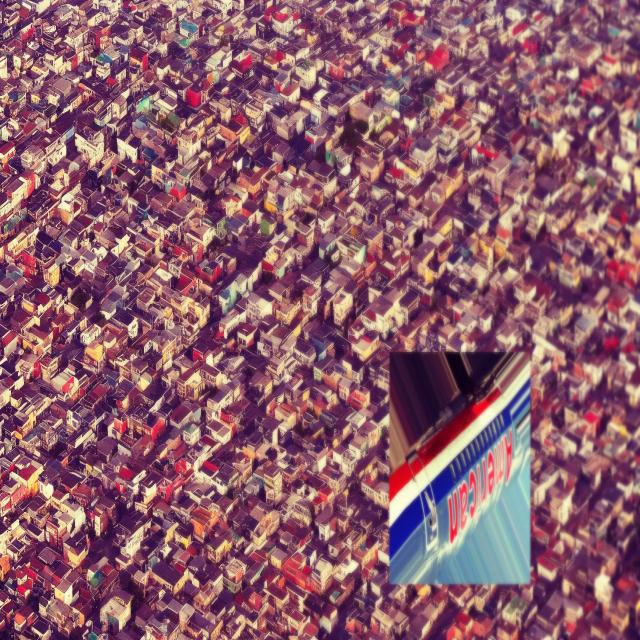airplane: (388, 347, 532, 586)
